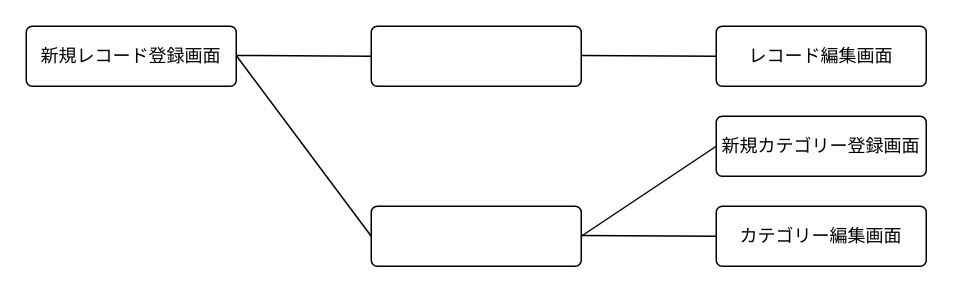
Image size: 953x293. Some labels were removed from this diagram. The shapes that lost their labels are listed below. From the top down, each one's centre as x and y in pixels, then its label:
the point at 475,55: レコード一覧画面
the point at 475,235: カテゴリー一覧画面
